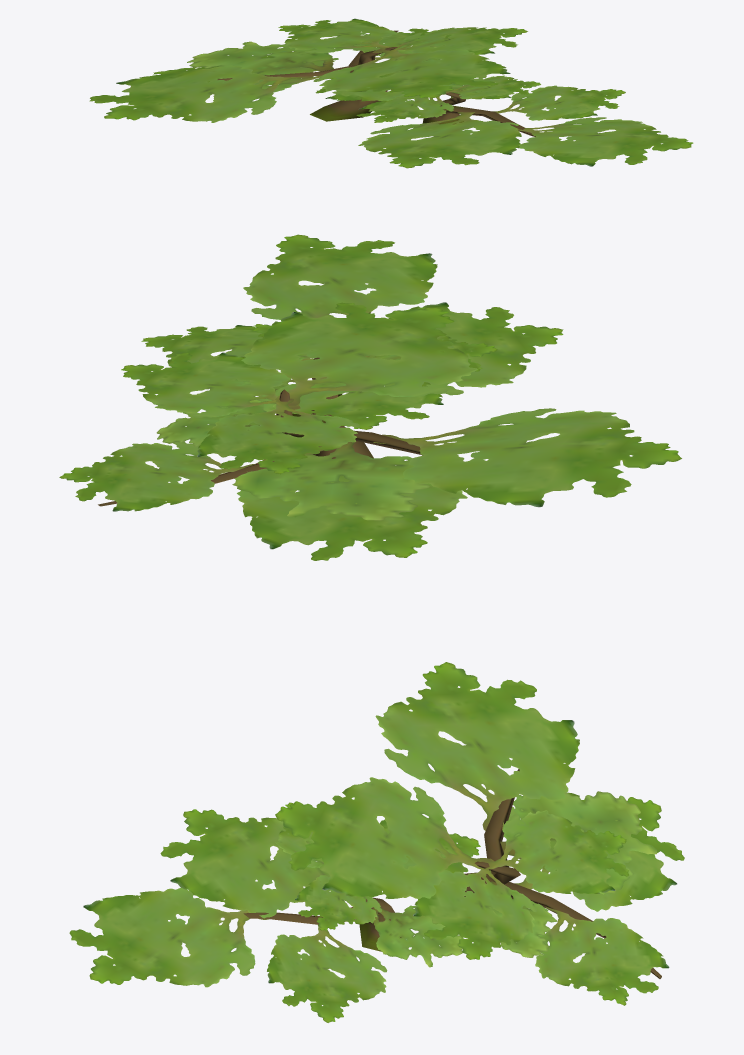
File: liemo_plant_07 (16).fbx
The picture shows the model from 3 angles, top to bottom: view 1: azimuth 30°, elevation 25°; view 2: azimuth 150°, elevation 25°; view 3: azimuth 270°, elevation 25°; orthographic projection. The views are drawn at different scales.
Parts seen in each view (by area): view 1: liemo_plant_07 (16); view 2: liemo_plant_07 (16); view 3: liemo_plant_07 (16).
Boxes of the visible parts, x1,y1,x2,y2 form: liemo_plant_07 (16): (89, 18, 693, 168); liemo_plant_07 (16): (59, 234, 681, 560); liemo_plant_07 (16): (69, 662, 684, 1022).
Bounding box in the file's own units: 11.87 × 1.67 × 10.13.
